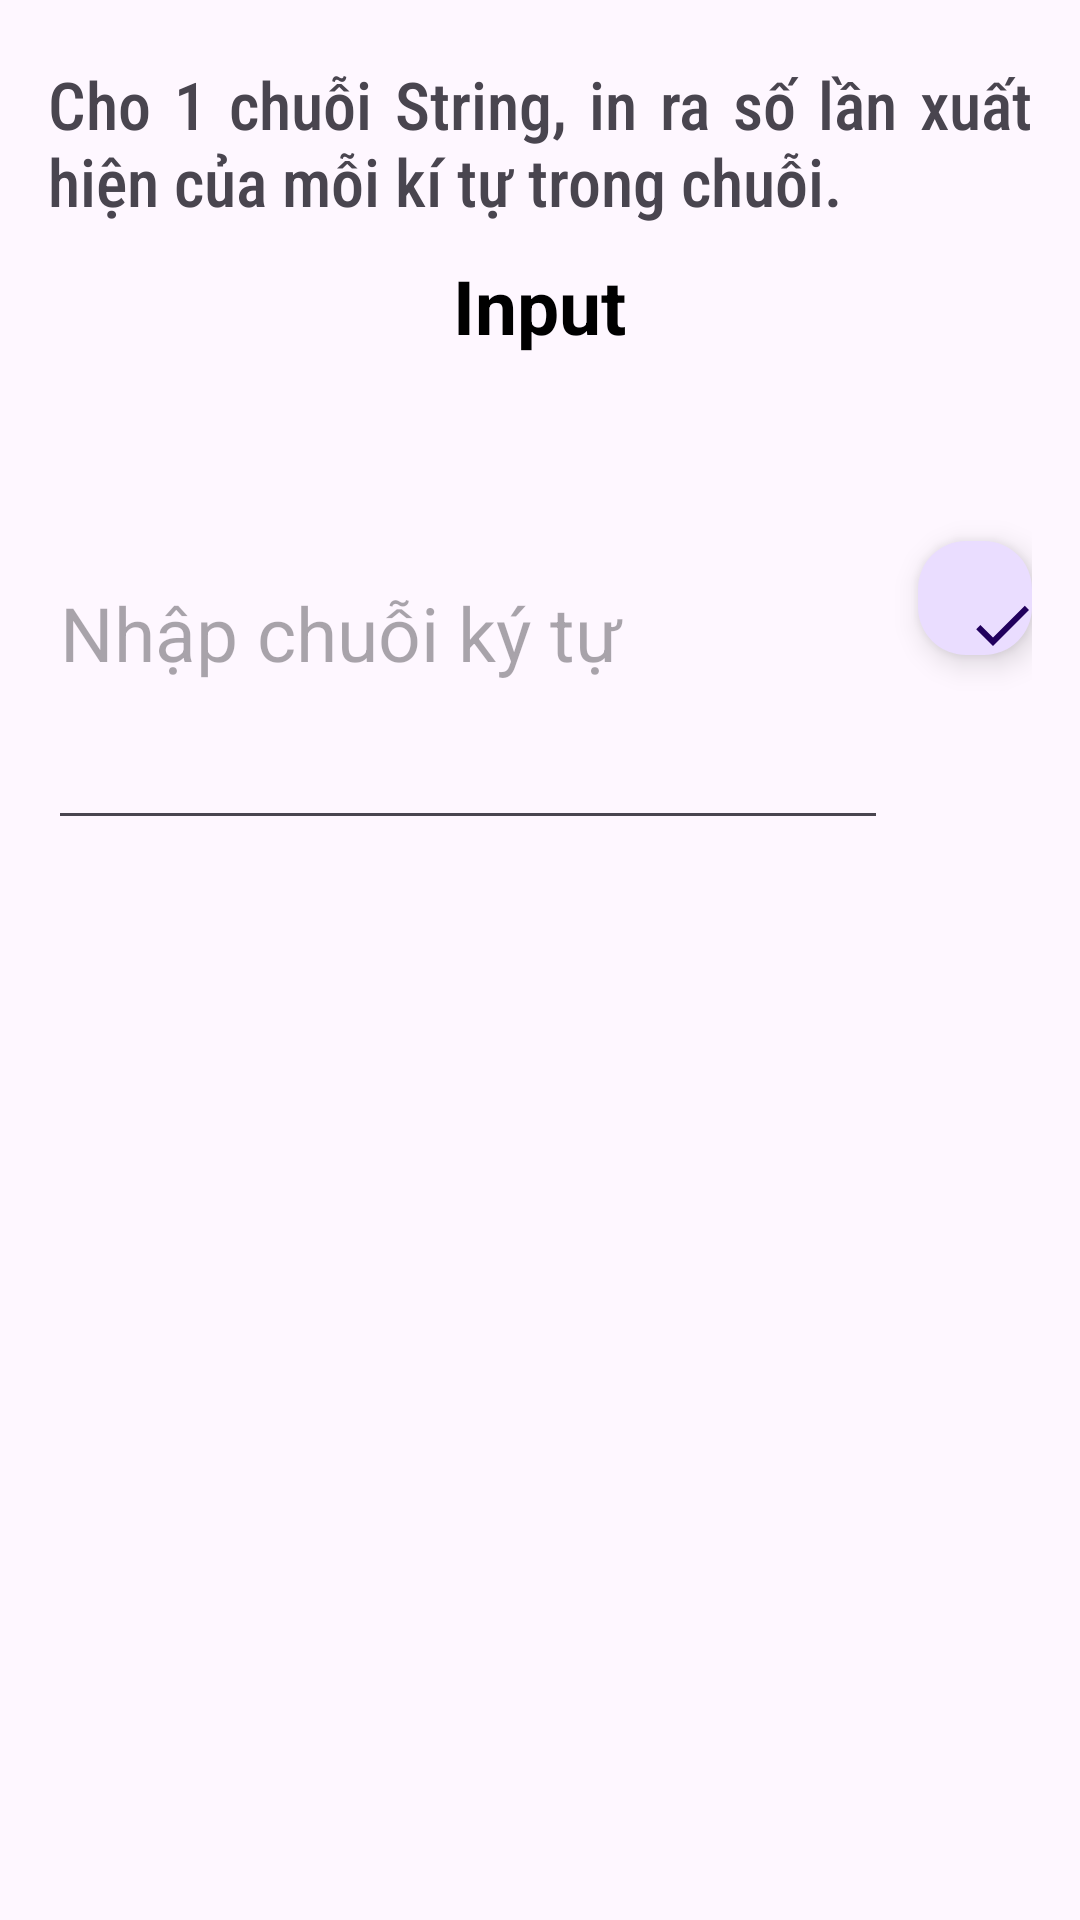

Where icons sit on this 1080w x 1920h app screen, as bbox(x1, y1, x2, y2):
Lưu input: bbox(918, 541, 1032, 655)
